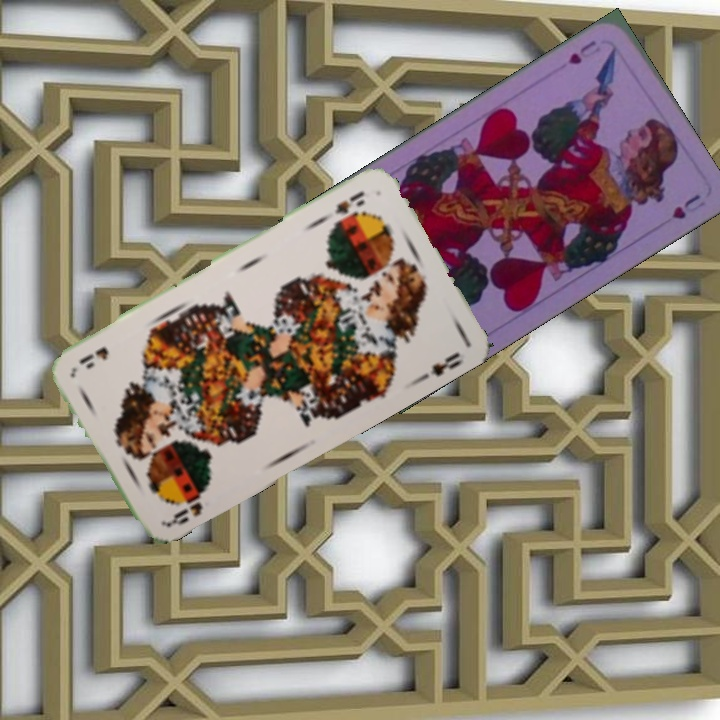HU: (563, 36, 604, 68)
SO: (160, 483, 210, 529), (330, 187, 368, 217)
